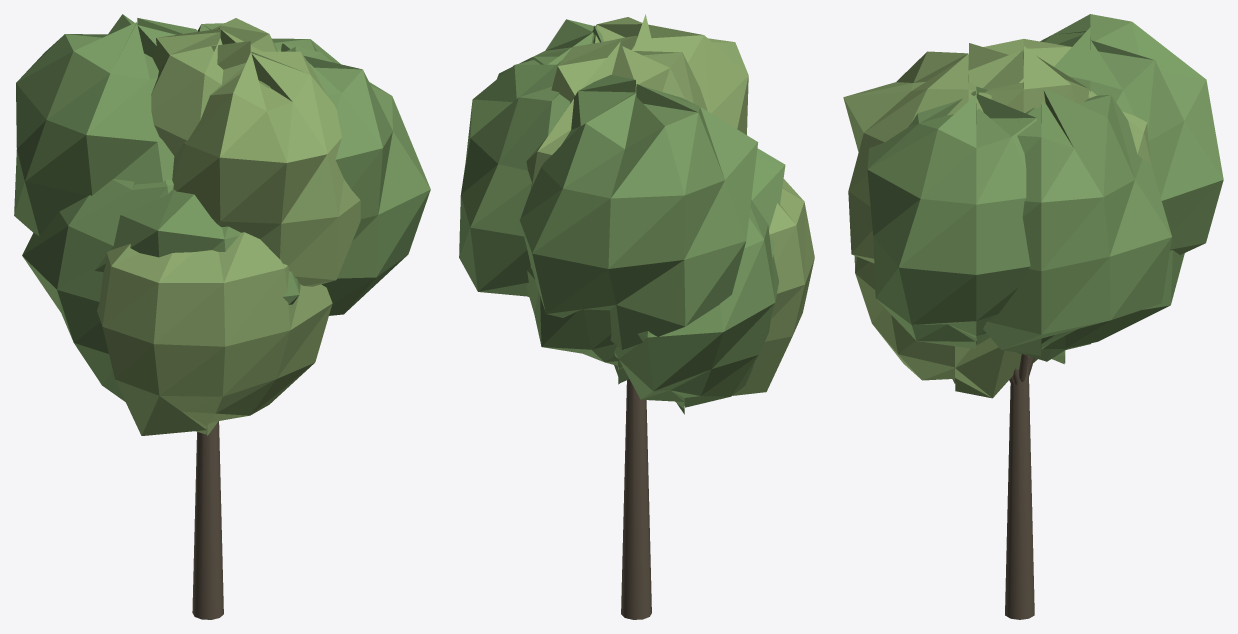
The model's file is oak_tree_variant_02.glb.
3 views of the same model, side by side, from view 1: azimuth 30°, elevation 25°; view 2: azimuth 150°, elevation 25°; view 3: azimuth 270°, elevation 25° (orthographic).
Parts seen in each view (by area): view 1: static_leaf_light, static_leaf_oak, static_bark; view 2: static_leaf_oak, static_leaf_light, static_bark; view 3: static_leaf_oak, static_leaf_light, static_bark.
Boxes of the visible parts, left/top/right/bottom form: static_leaf_light: left=97, top=18, right=360, bottom=435; static_leaf_oak: left=14, top=14, right=430, bottom=401; static_bark: left=192, top=421, right=223, bottom=619; static_leaf_oak: left=459, top=19, right=785, bottom=414; static_leaf_light: left=526, top=14, right=814, bottom=395; static_bark: left=621, top=379, right=651, bottom=619; static_leaf_oak: left=867, top=14, right=1223, bottom=364; static_leaf_light: left=843, top=39, right=1151, bottom=398; static_bark: left=1005, top=354, right=1034, bottom=619.
Bounding box in the file's own units: 4.72 × 8.18 × 4.88.
